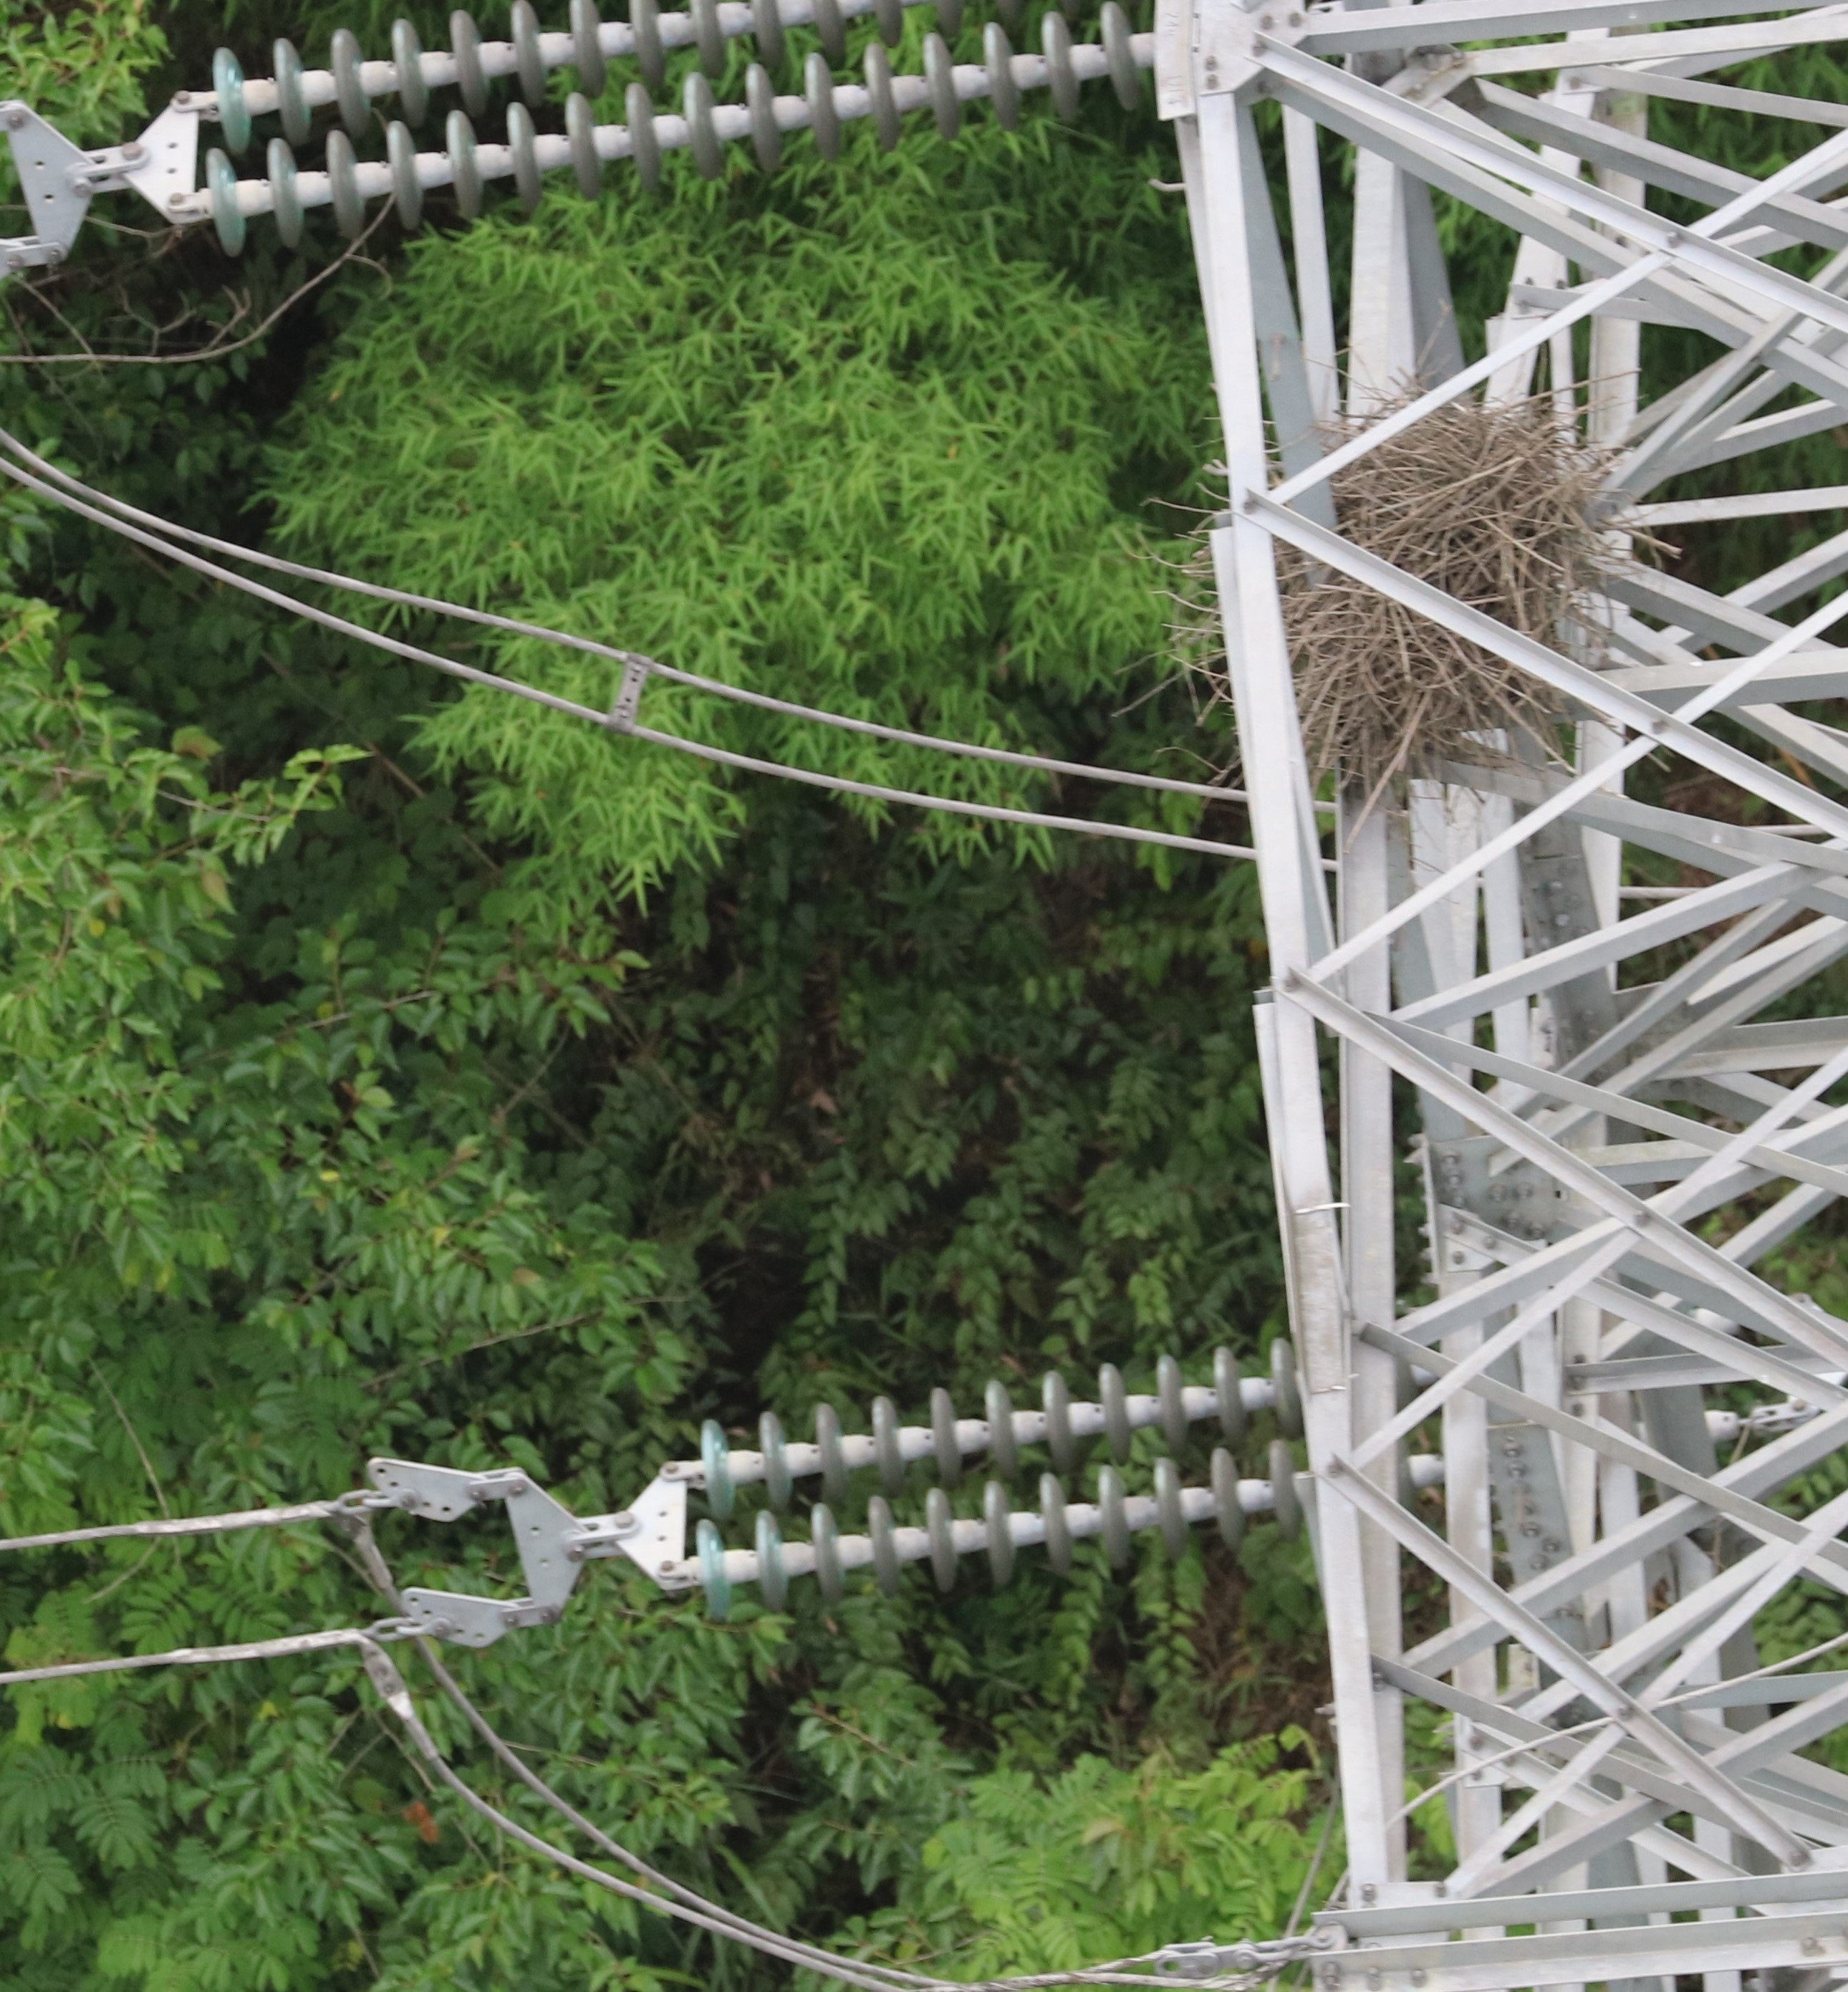niaowo: (1145, 389, 1666, 854)
